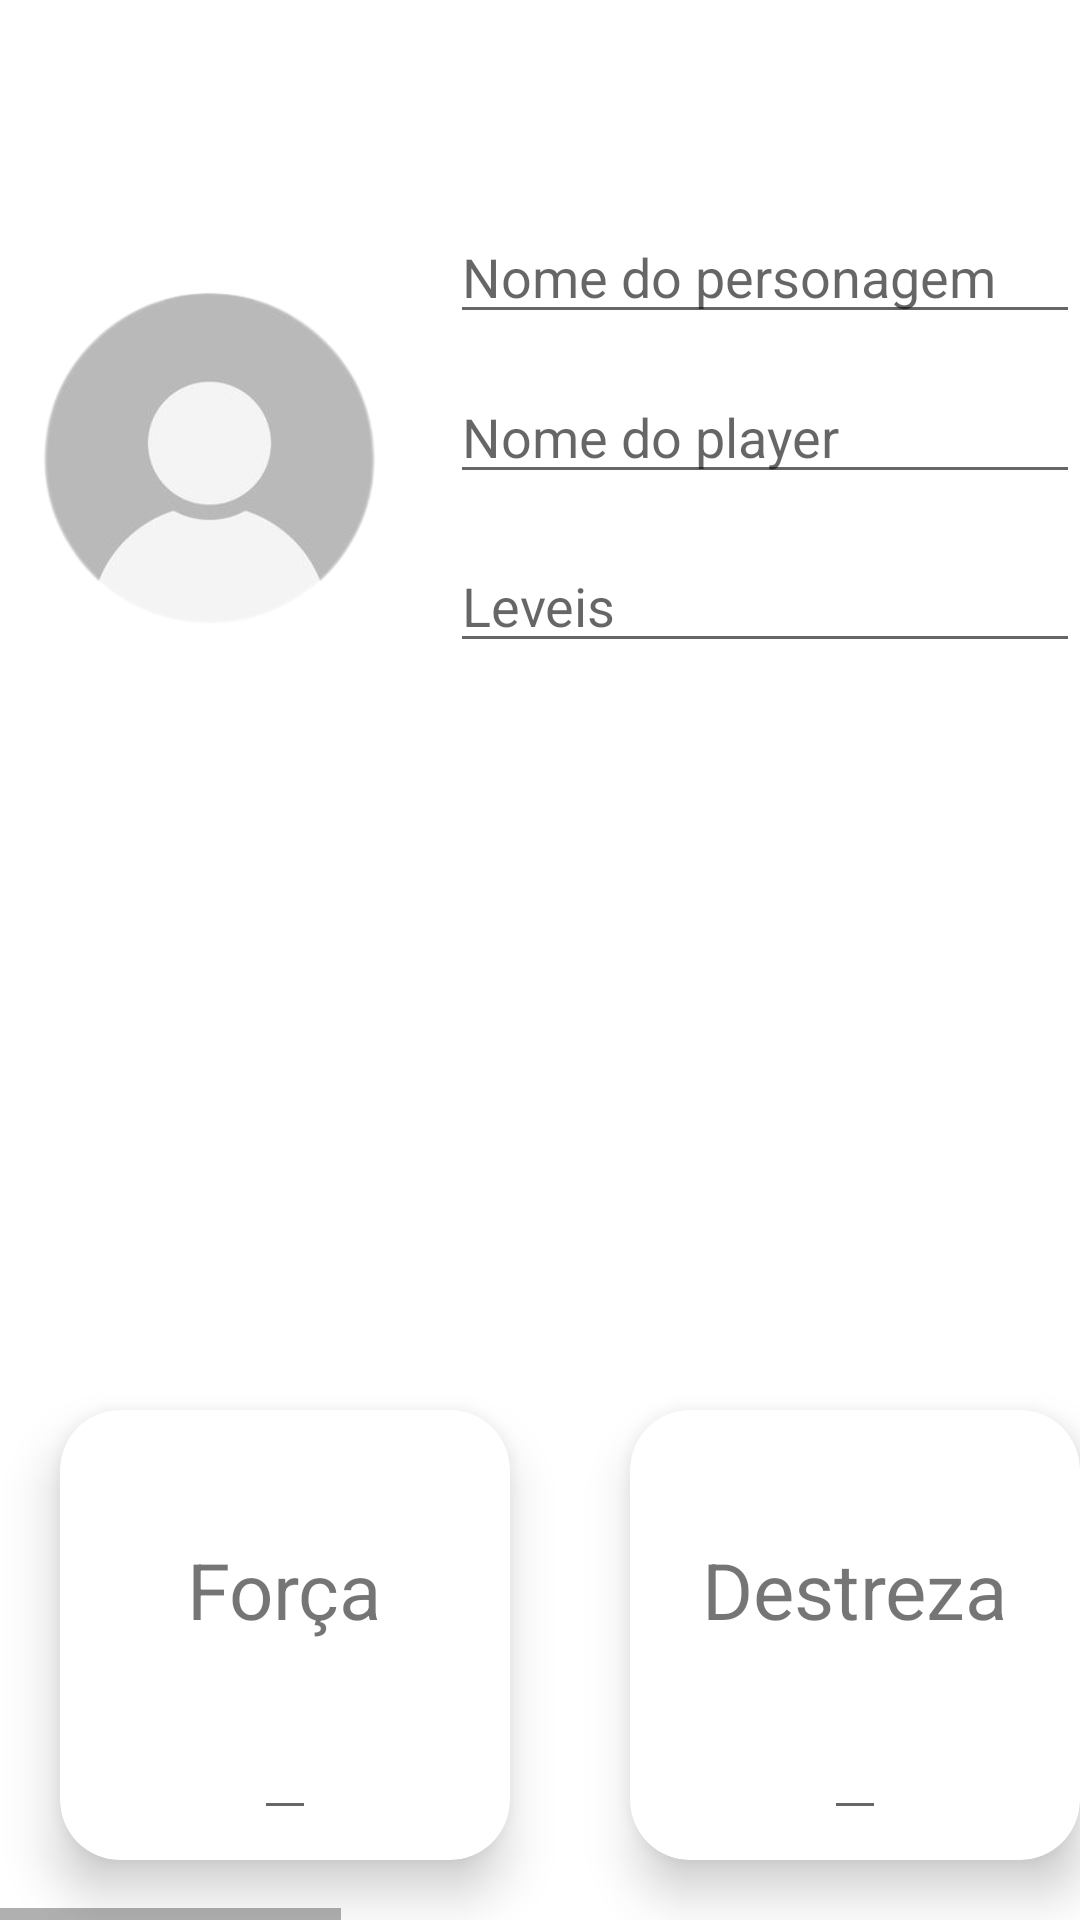

Icon click points for this 1080px×1920px phone screenshot, format [x,y]:
profile: [209,436]
